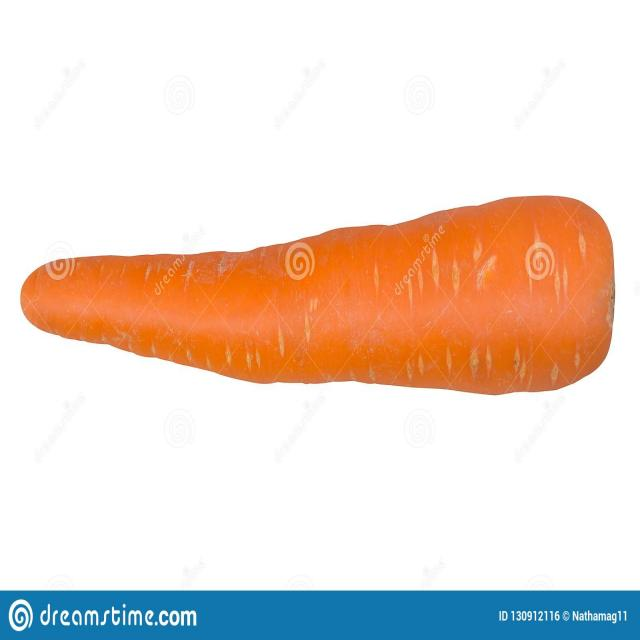Carrot: (19, 193, 614, 402)
